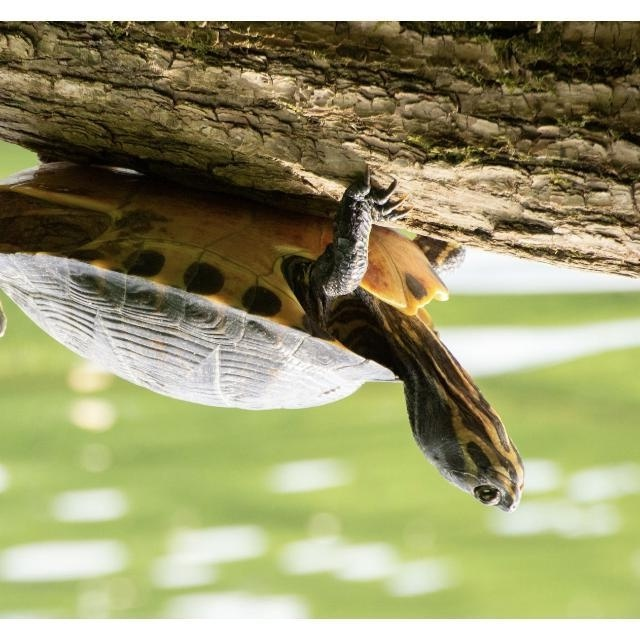turtle: (5, 159, 526, 514)
